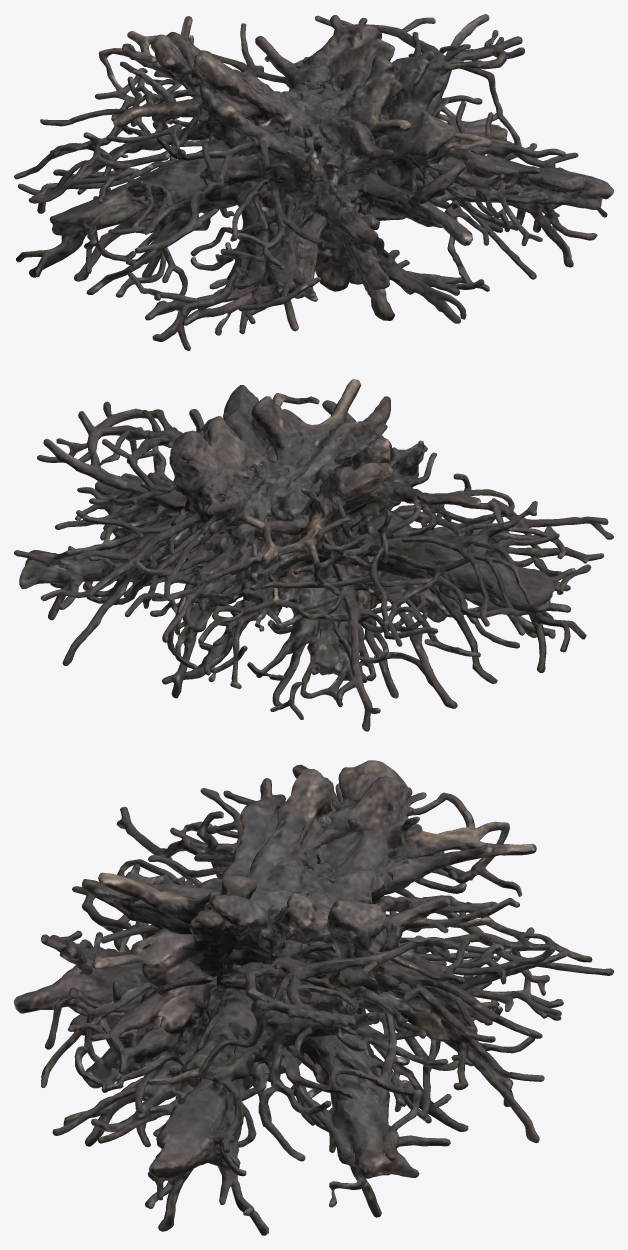
The model's file is submerged-root-v13.glb.
The picture shows the model from 3 angles, top to bottom: view 1: azimuth 30°, elevation 25°; view 2: azimuth 150°, elevation 25°; view 3: azimuth 270°, elevation 25°; orthographic projection. The views are drawn at different scales.
Visible parts, largest first — view 1: geometry_0; view 2: geometry_0; view 3: geometry_0.
Part boxes in pixels (x1=…): geometry_0: x1=14, y1=14, x2=613, y2=350; geometry_0: x1=14, y1=379, x2=613, y2=731; geometry_0: x1=14, y1=760, x2=613, y2=1235.
Bounding box in the file's own units: 0.8495 × 0.3728 × 0.7063.
Materials: 1 (1 with a texture image).
